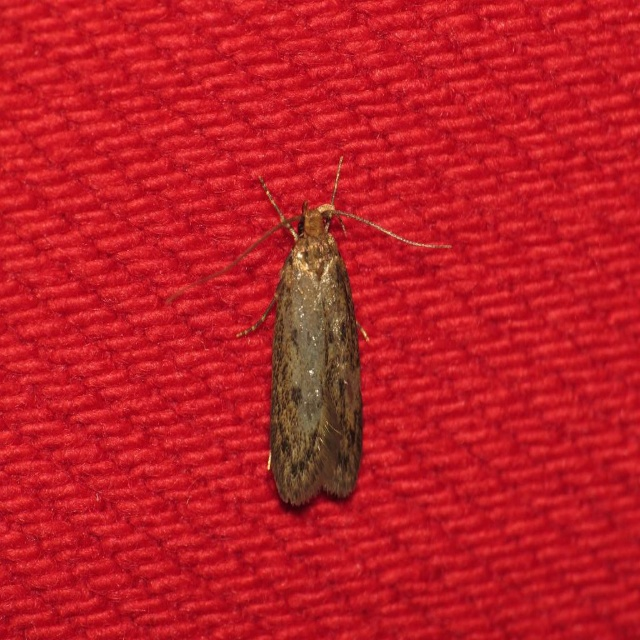Moths and butterflies: (157, 154, 455, 512)
